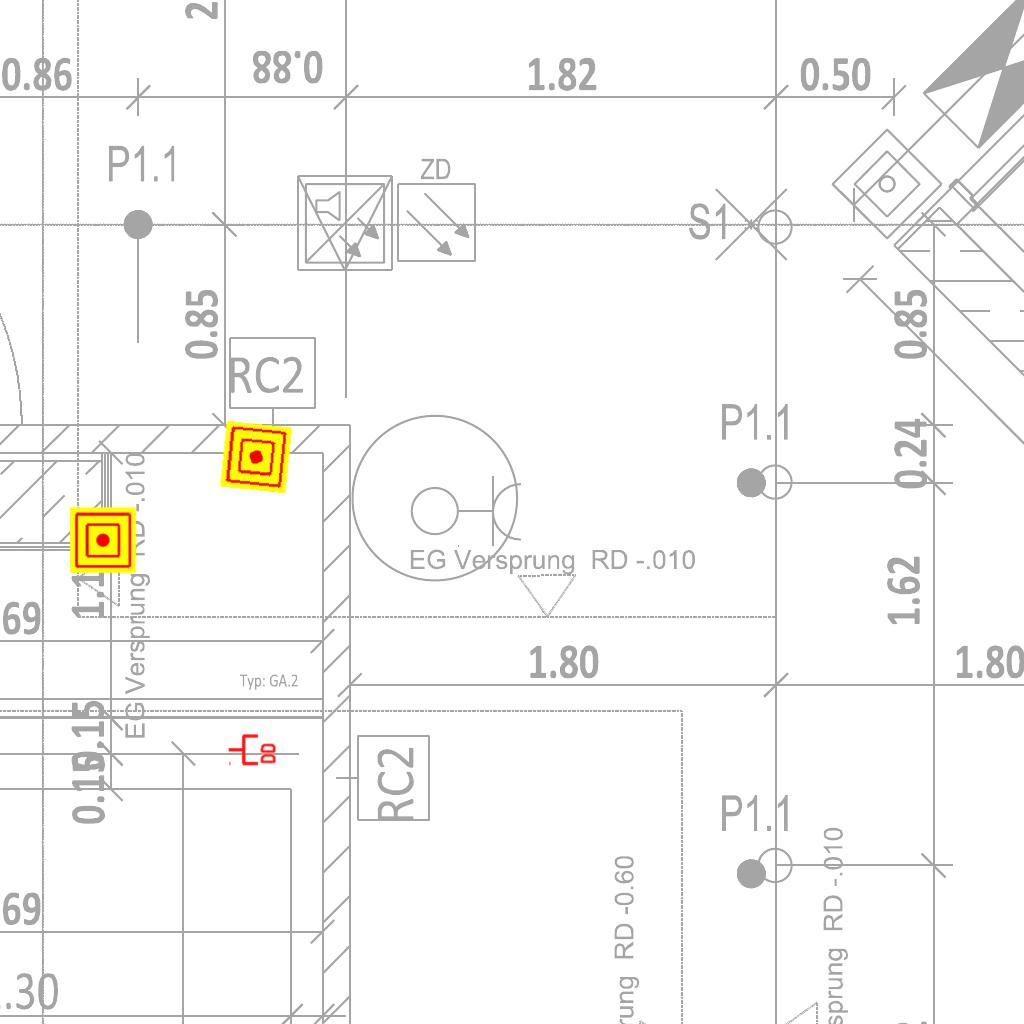Datenanschluss_zweifach: (227, 732, 278, 766)
NAM-Nichtautomatischer_Melder: (219, 420, 293, 494), (70, 507, 136, 573)
